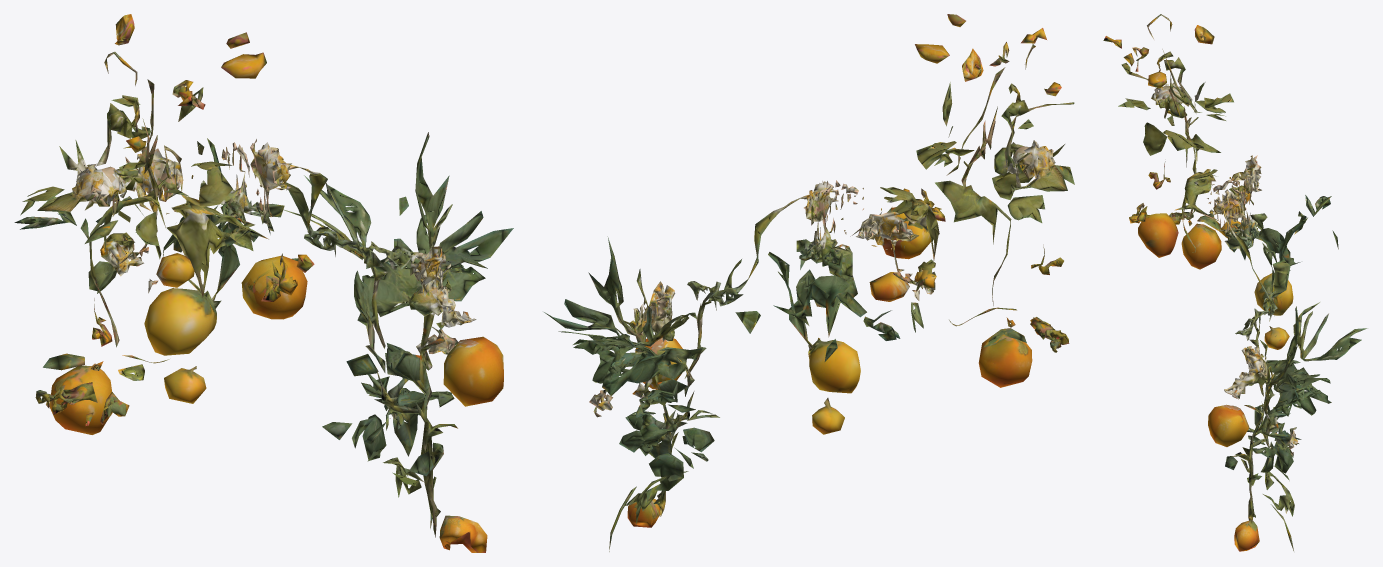
File: Botanical_Dreamscape_0522120256_texture.glb
The picture shows the model from 3 angles, left to right: view 1: azimuth 30°, elevation 25°; view 2: azimuth 150°, elevation 25°; view 3: azimuth 270°, elevation 25°; orthographic projection. The views are drawn at different scales.
Bounding box in the file's own units: 1.74 × 1.95 × 1.13.
Materials: 1 (1 with a texture image).
